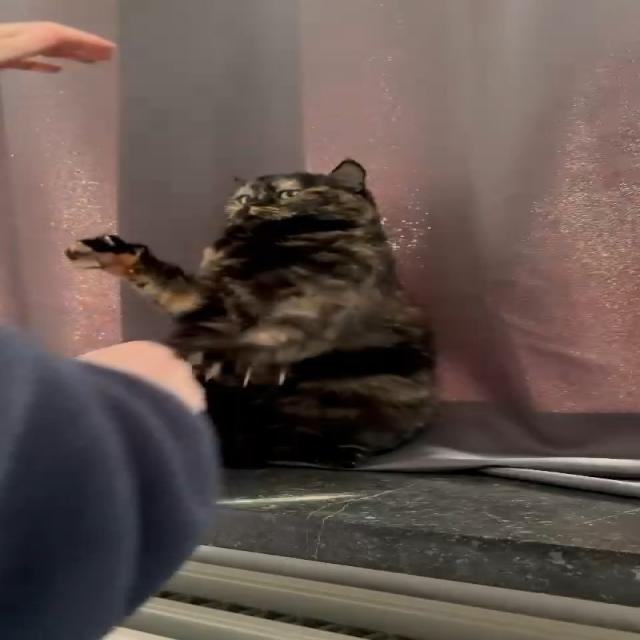authorized: (63, 158, 440, 469)
